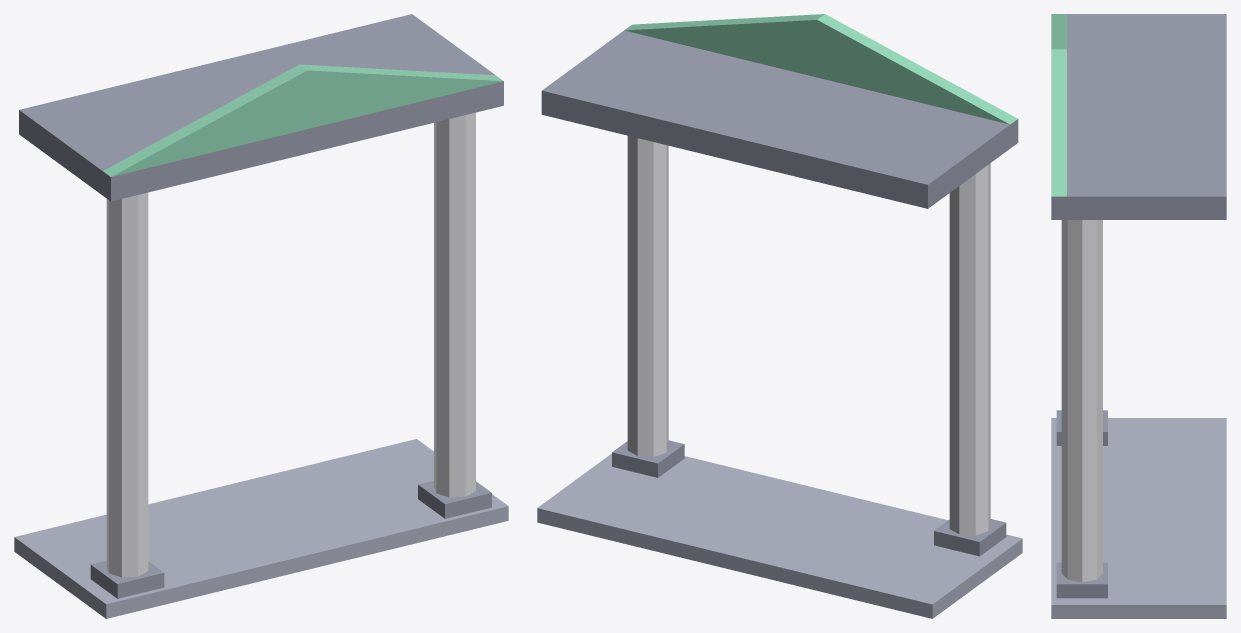
File: portico.glb
3 renders of one model, left to right at view 1: azimuth 30°, elevation 25°; view 2: azimuth 150°, elevation 25°; view 3: azimuth 270°, elevation 25°, orthographic. The views are drawn at different scales.
Visible parts, largest first — view 1: portico; view 2: portico; view 3: portico.
Boxes of the visible parts, <box> form: portico: <box>14,14,508,618</box>; portico: <box>537,14,1022,618</box>; portico: <box>1051,14,1226,618</box>.
Size of the model in its own units: 0.86 by 1.02 by 0.34.
1 material, 1 textured.
